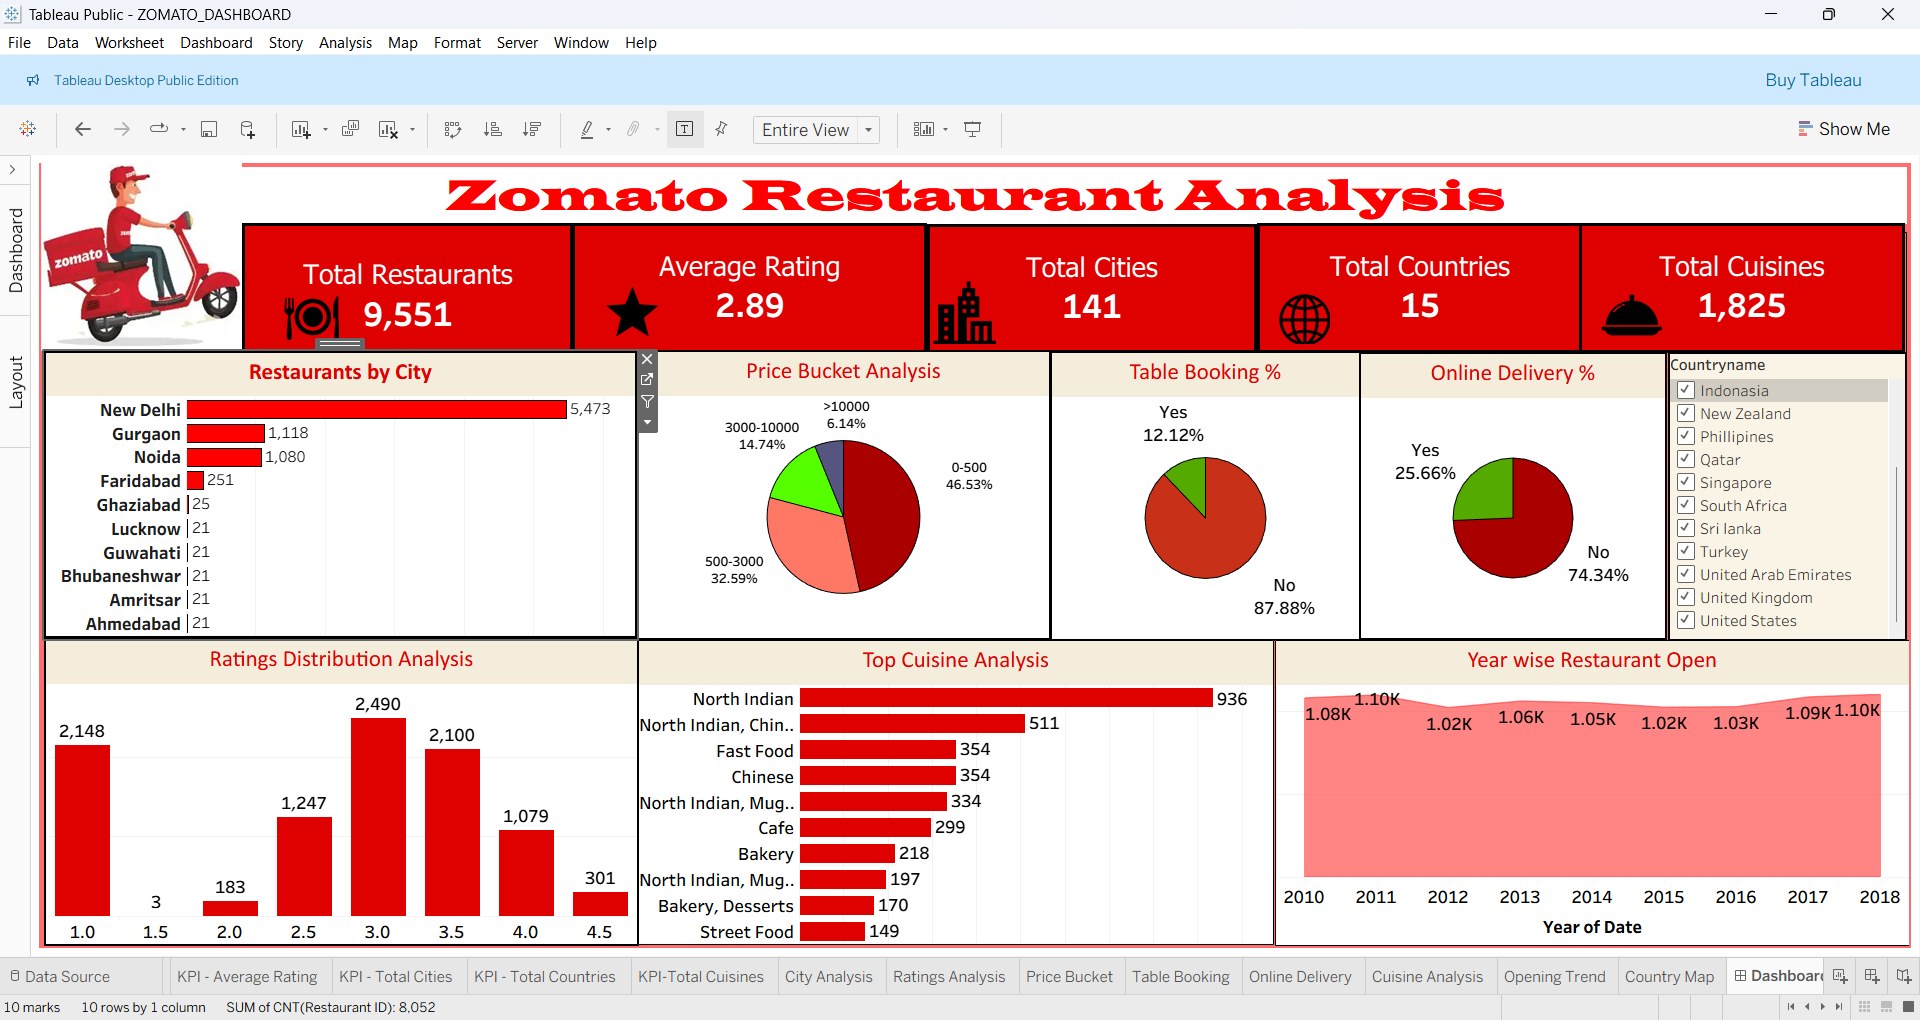

The page's visual inventory and layout, read from the dashboard file:
{"tool":"tableau","page":{"name":"Dashboard 1","canvas":[1000,1000],"units":"permille","ordinal":0},"visuals":[{"type":"title","box":[5.1,9.9,989.9,80.4]},{"type":"image","param":"Image/OIP.png","box":[7,15,128.6,228.5]},{"type":"worksheet","title":"KPI - Total Restaurants","mark":"Automatic","box":[123.5,85.4,176.1,160.9]},{"type":"worksheet","title":"KPI - Average Rating","mark":"Automatic","box":[297.7,85.4,176.7,162.1]},{"type":"worksheet","title":"KPI - Total Countries","mark":"Automatic","box":[649.1,85.4,172.3,162.1]},{"type":"worksheet","title":"KPI-Total Cuisines","mark":"Automatic","box":[820.1,85.4,172.9,162.1]},{"type":"worksheet","title":"KPI - Total Cities","mark":"Automatic","box":[474.4,86.6,174.8,160.9]},{"type":"blank","box":[5.1,90.3,989.9,159.7]},{"type":"image","param":"Image/city.png","box":[477.5,157.2,34.2,79.2]},{"type":"image","param":"Image/culinary.png","box":[831.5,160.9,41.8,76.7]},{"type":"image","param":"Image/star.png","box":[304.6,162.3,34.8,64.9]},{"type":"image","param":"Image/M1dpGSpsr1Zyq5-RR3GFa40ZzQM.png","box":[172.3,163.6,38.6,78.7]},{"type":"image","param":"Image/dinner.png","box":[134.3,168.5,38,68.7]},{"type":"image","param":"Image/global.png","box":[661.2,173.3,41.8,63.1]},{"type":"dashboard-object","box":[531.4,174.8,15.2,30]},{"type":"worksheet","title":"Price Bucket","mark":"Pie","box":[320.5,243.8,219.8,362.6]},{"type":"worksheet","title":"City Analysis","mark":"Automatic","rows":["City"],"cols":["RestaurantID"],"box":[7,245.1,314.1,358.9]},{"type":"worksheet","title":"Table Booking","mark":"Pie","box":[539.6,245.1,164.7,362.6]},{"type":"worksheet","title":"Online Delivery","mark":"Pie","box":[703.6,246.3,163.4,360.2]},{"type":"filter","title":"City Analysis","param":"[federated.0dd35110arxk5916oz5pi0w0m3ld].[none:Countryname:nk]","box":[867,246.3,126.7,361.4]},{"type":"legend","title":"Price Bucket","param":"[federated.0dd35110arxk5916oz5pi0w0m3ld].[cnt:RestaurantID:qk]","box":[675.1,273.4,88.7,59.9]},{"type":"worksheet","title":"Ratings Analysis","mark":"Automatic","rows":["RestaurantID"],"cols":["Rating (bin)"],"box":[7,602.7,315.4,384.9]},{"type":"worksheet","title":"Cuisine Analysis","mark":"Automatic","rows":["Cuisines"],"cols":["RestaurantID"],"box":[321.7,605.2,336.9,381.2]},{"type":"worksheet","title":"Opening Trend","mark":"Area","rows":["RestaurantID"],"cols":["Date"],"box":[658.6,605.2,336.3,382.4]}]}

Visuals, with their boxes on the dashboard's canvas, which has no fixed pixel size, in thousandths of its width and height (x1, y1, x2, y2). These are canvas units, not pixel positions in the 1920x1020 screenshot, which may show the page scaled, cropped or inside an application window:
title: <box>5,10,995,90</box>
image: <box>7,15,136,244</box>
"KPI - Total Restaurants" worksheet: <box>124,85,300,246</box>
"KPI - Average Rating" worksheet: <box>298,85,474,248</box>
"KPI - Total Countries" worksheet: <box>649,85,821,248</box>
"KPI-Total Cuisines" worksheet: <box>820,85,993,248</box>
"KPI - Total Cities" worksheet: <box>474,87,649,248</box>
blank: <box>5,90,995,250</box>
image: <box>478,157,512,236</box>
image: <box>832,161,873,238</box>
image: <box>305,162,339,227</box>
image: <box>172,164,211,242</box>
image: <box>134,168,172,237</box>
image: <box>661,173,703,236</box>
dashboard-object: <box>531,175,547,205</box>
"Price Bucket" worksheet (Pie marks): <box>320,244,540,606</box>
"City Analysis" worksheet: <box>7,245,321,604</box>
"Table Booking" worksheet (Pie marks): <box>540,245,704,608</box>
"Online Delivery" worksheet (Pie marks): <box>704,246,867,606</box>
"City Analysis" filter: <box>867,246,994,608</box>
"Price Bucket" legend: <box>675,273,764,333</box>
"Ratings Analysis" worksheet: <box>7,603,322,988</box>
"Cuisine Analysis" worksheet: <box>322,605,659,986</box>
"Opening Trend" worksheet (Area marks): <box>659,605,995,988</box>
